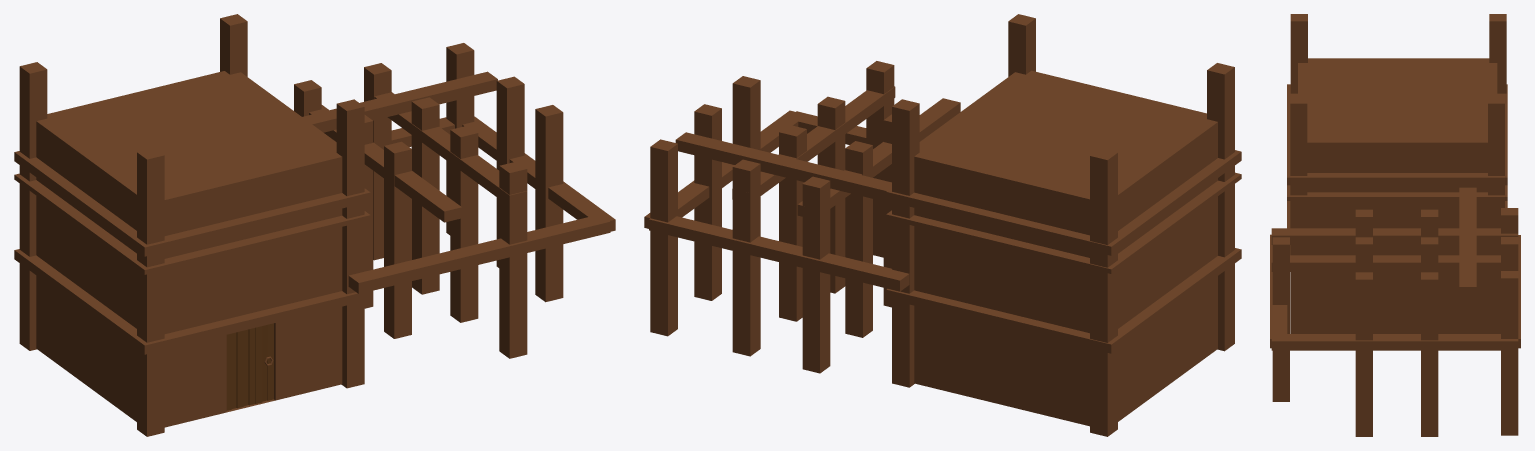
Rendered from Medievalhouse.fbx.
The picture shows the model from 3 angles, left to right: view 1: azimuth 30°, elevation 25°; view 2: azimuth 150°, elevation 25°; view 3: azimuth 270°, elevation 25°; orthographic projection. The views are drawn at different scales.
Visible parts, largest first — view 1: Cube.001; view 2: Cube.001; view 3: Cube.001.
Part boxes in pixels (x1=…): Cube.001: x1=14, y1=14, x2=615, y2=436; Cube.001: x1=644, y1=14, x2=1241, y2=436; Cube.001: x1=1270, y1=14, x2=1520, y2=436.
Size of the model in its own units: 394 by 226 by 219.
